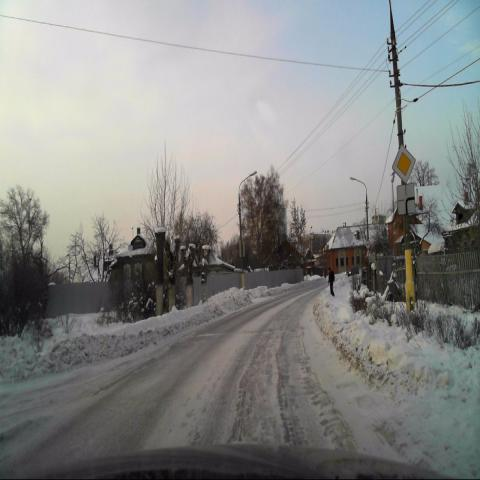8_13: (397, 185, 416, 217)
